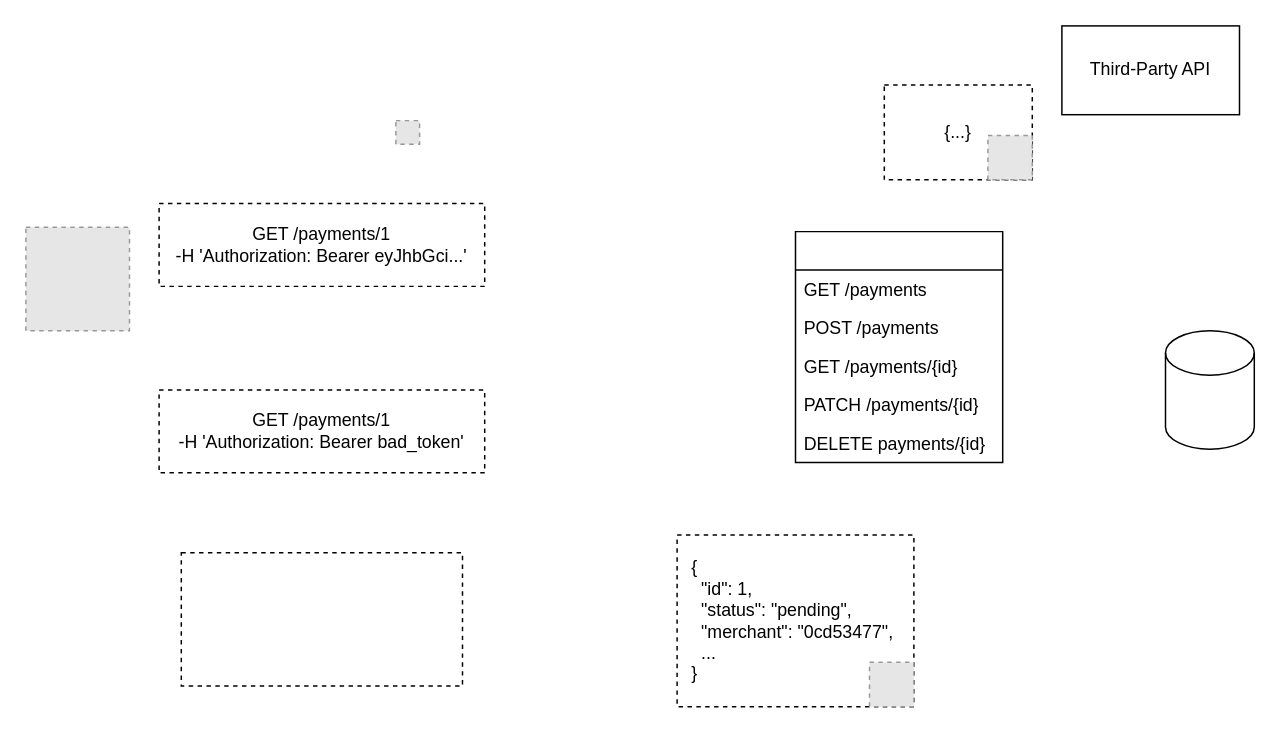
The diagram is 1280 pixels wide and 733 high, and some of its shapes have lost their labels. Grey dashed boxes stand in for pictures. Each missing label, with the box of its shape:
PATCH /payments/1 -H 'X-User-Role: Admin' {"status": "processed"}: (180, 551, 462, 686)
Payments API: (794, 230, 1003, 462)
